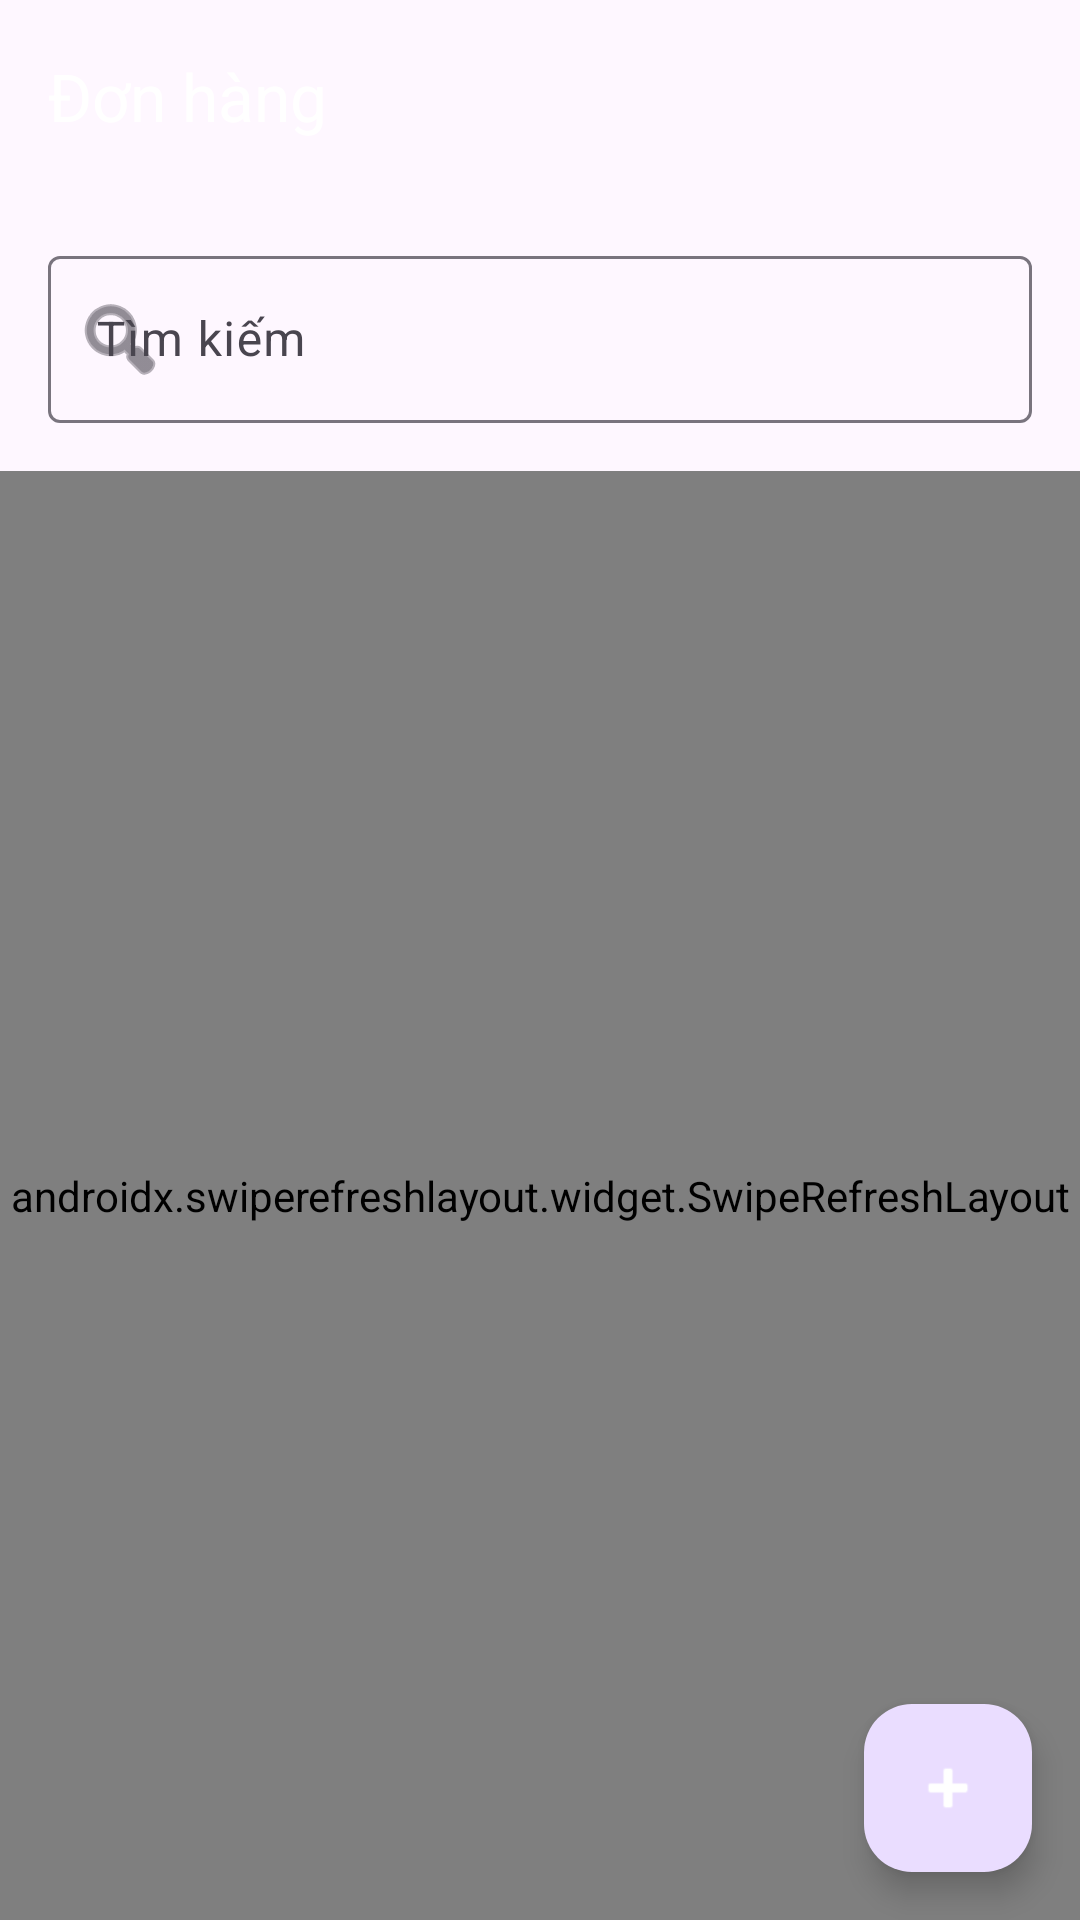

Where to tap for icons on this 1080px x 1920px app screen, as (x=x, y=y):
add: (x=948, y=1788)
